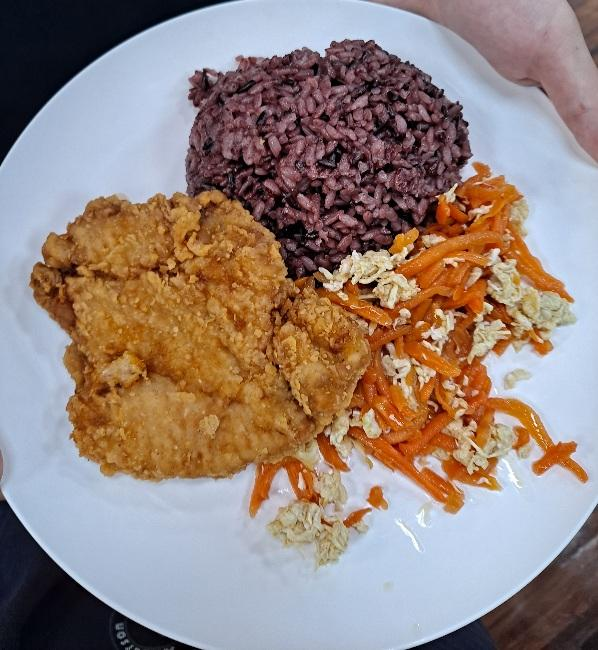big fried chicken leg: (4, 11, 598, 647)
braised fish: (184, 45, 463, 246)
braised fish fillet: (349, 180, 575, 509)
braised pork: (35, 197, 368, 475)
